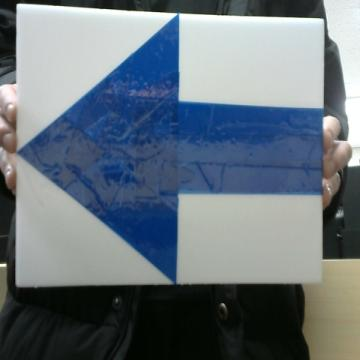blue_left: (18, 16, 322, 282)
